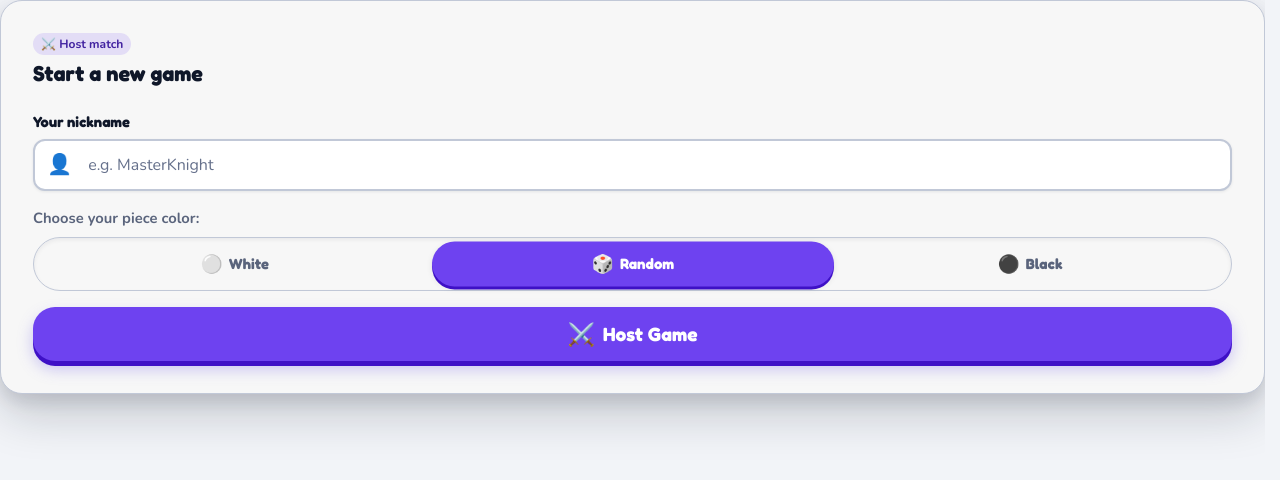
HostCard.vue (Accessibility & Interactions) › validates empty nickname and shows error with aria-invalid on input
Click the button with test id "host-game-btn": (632, 334) [33,307,1232,361]
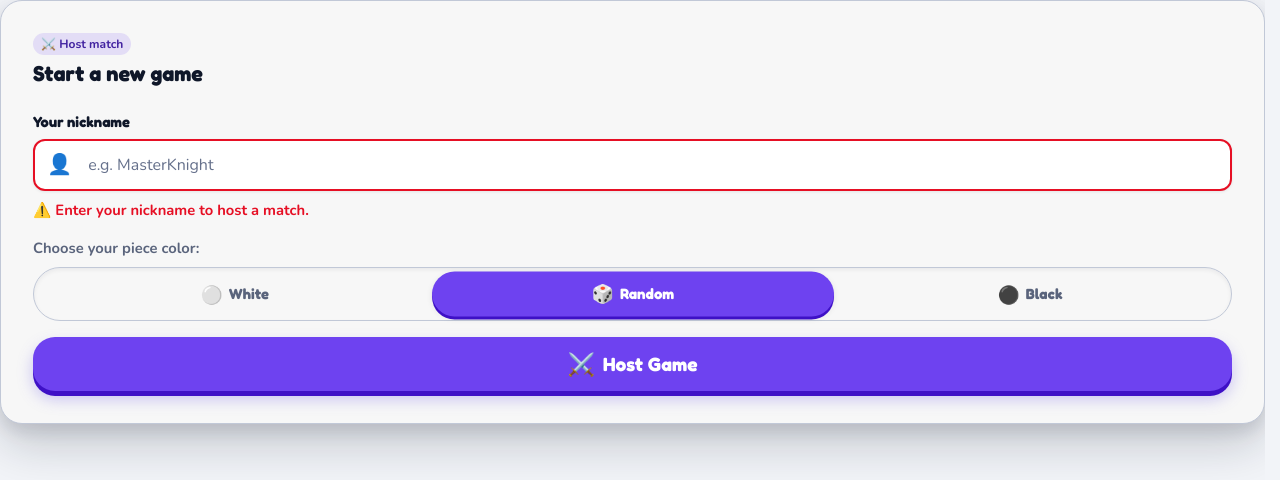
Expected: the message with class "base-input-error" shows "Enter your nickname to host a match.", [55,200,309,220]
